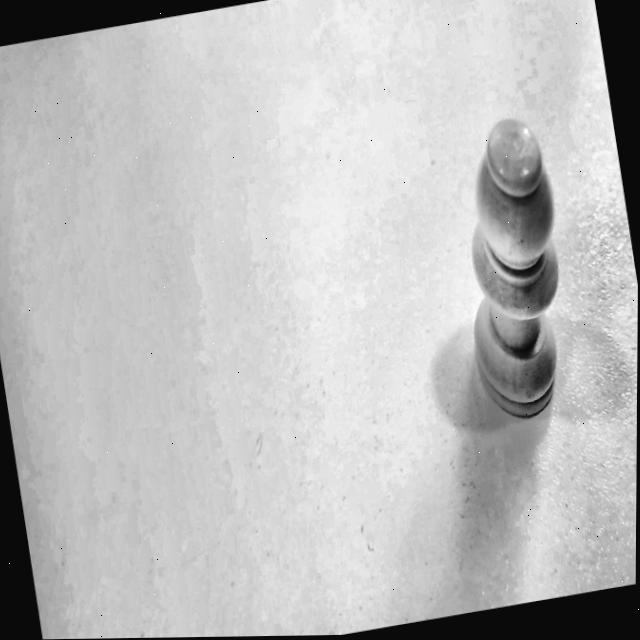white-bishop: (400, 70, 614, 466)
